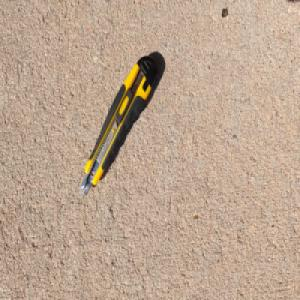Cutter: (79, 54, 159, 197)
